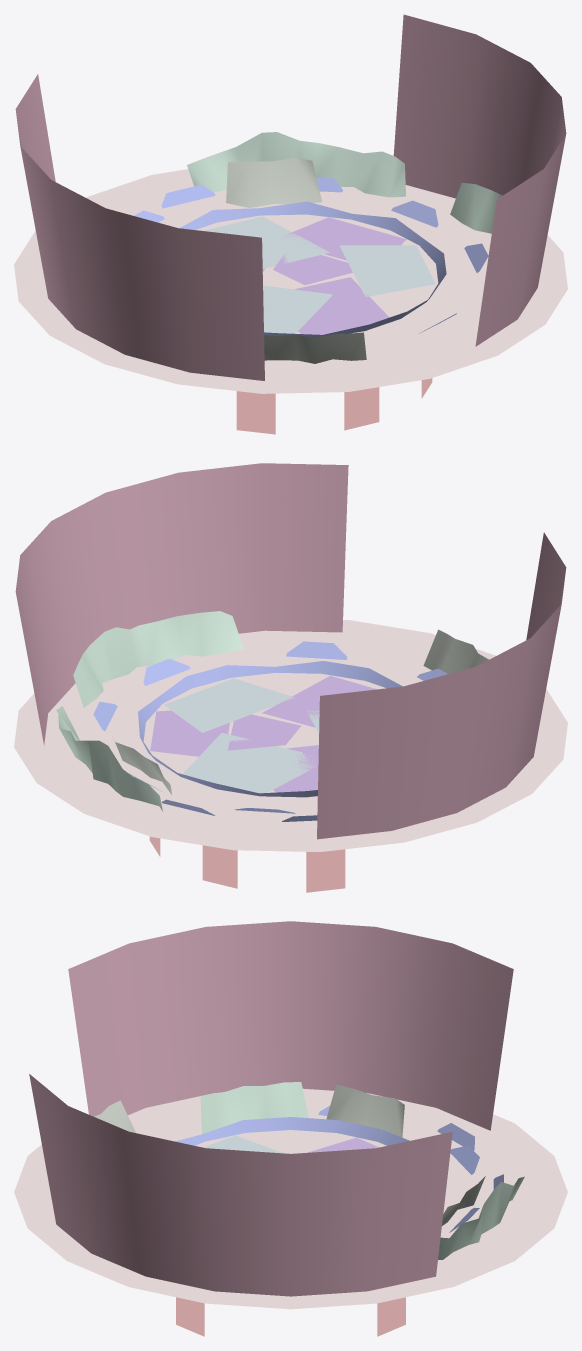
3 renders of one model, top to bottom at view 1: azimuth 30°, elevation 25°; view 2: azimuth 150°, elevation 25°; view 3: azimuth 270°, elevation 25°, orthographic.
Visible parts, largest first — view 1: btl_G_kusa; view 2: btl_G_kusa; view 3: btl_G_kusa.
Part boxes in pixels (x1,y1,x2,y2): btl_G_kusa: (14,14,567,434); btl_G_kusa: (14,463,567,892); btl_G_kusa: (14,921,567,1336).
Bounding box in the file's own units: 3551 × 1796 × 3551.
